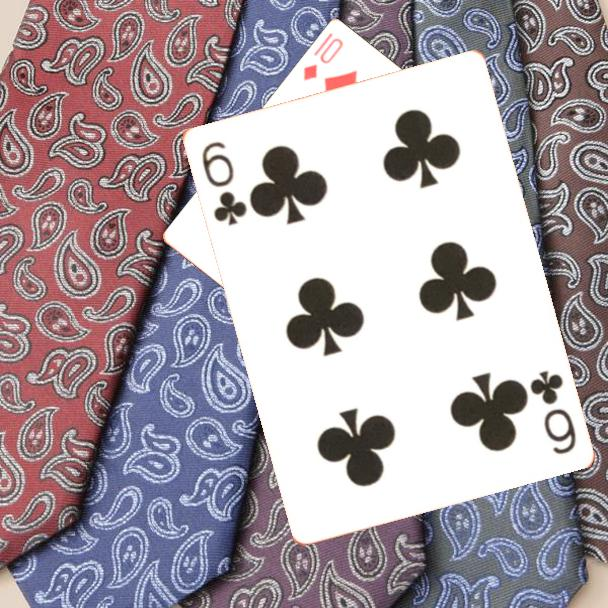c06: (526, 367, 579, 457), (197, 137, 249, 228)
d10: (300, 29, 346, 84)
